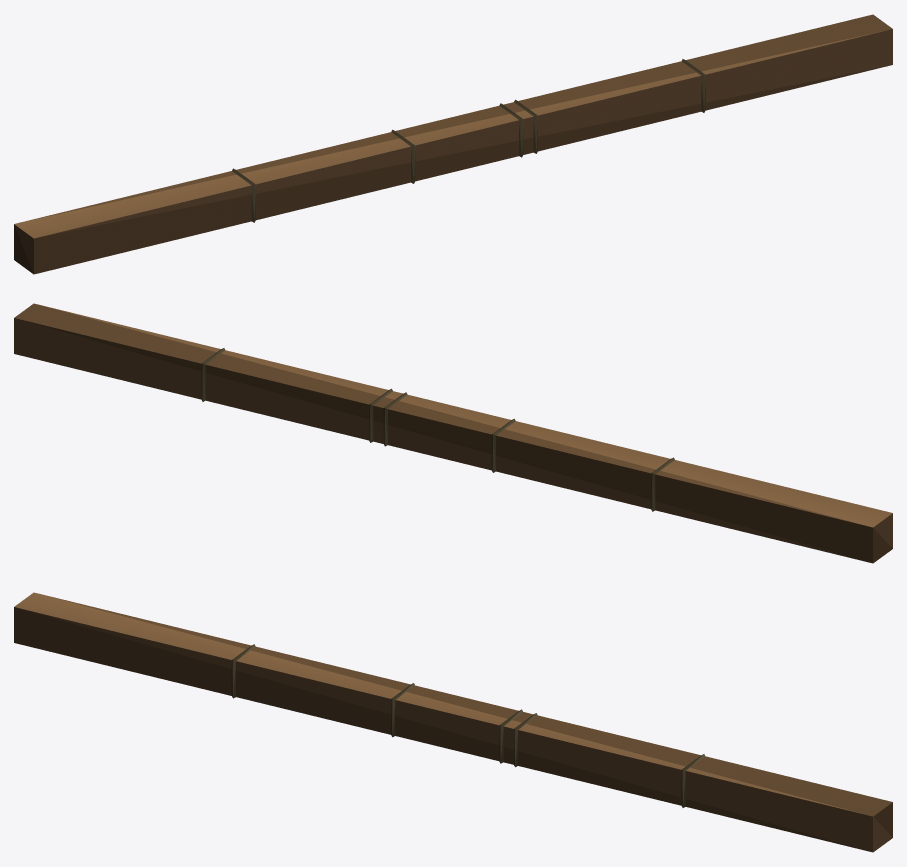
Rendered from Wood_5_Lod0.fbx.
3 renders of one model, top to bottom at view 1: azimuth 30°, elevation 25°; view 2: azimuth 150°, elevation 25°; view 3: azimuth 330°, elevation 25°, orthographic.
Parts seen in each view (by area): view 1: polySurface1091; view 2: polySurface1091; view 3: polySurface1091.
Part boxes in pixels (left/top/right/bottom): polySurface1091: left=14, top=14, right=892, bottom=274; polySurface1091: left=14, top=303, right=892, bottom=563; polySurface1091: left=14, top=592, right=892, bottom=852.
Size of the model in its own units: 1000 by 43.25 by 43.25.
Materials: 1 (1 with a texture image).
